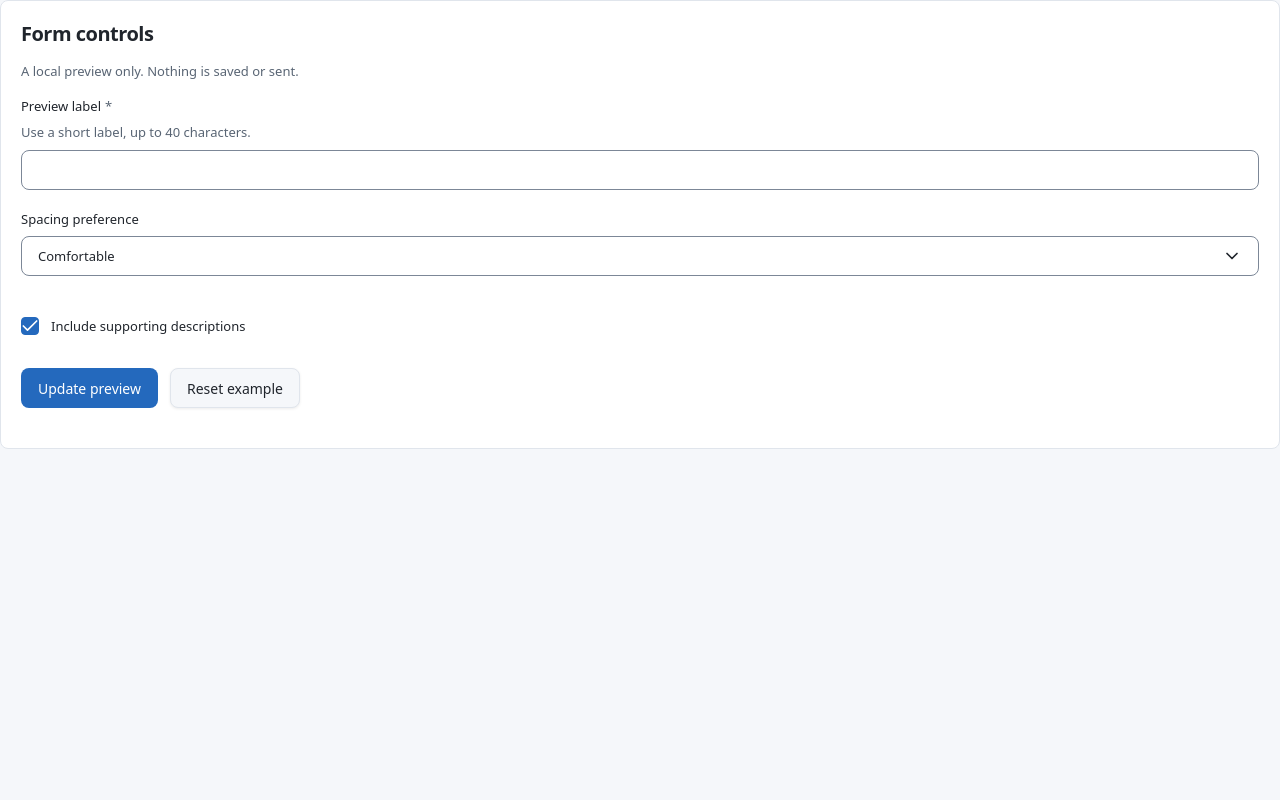
Test: associates labels, hints and validation errors and focuses the error summary
Step 1. Click the button "Update preview" → (90, 388), box [21, 368, 158, 408]
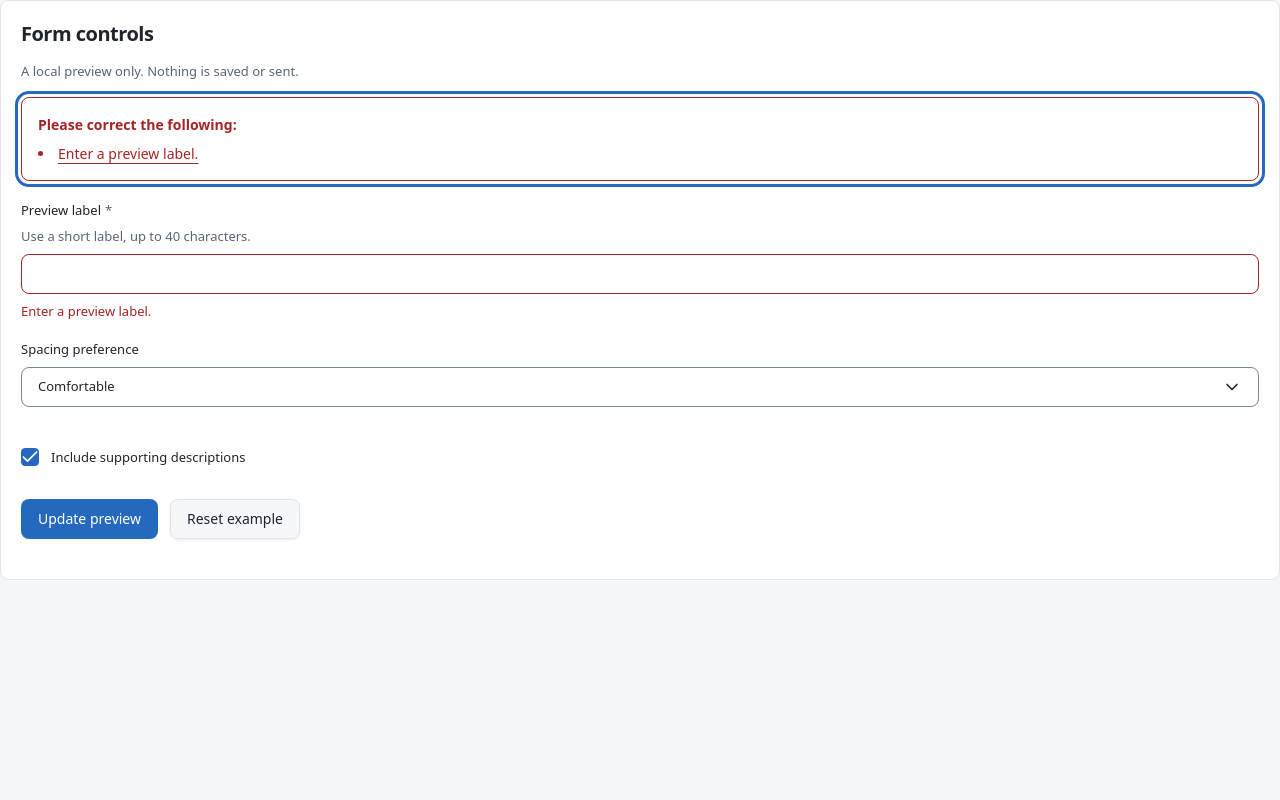
Expected: the field labelled "Preview label" is marked as invalid, [21, 254, 1259, 294]
Step 2. Click the button "Enter a preview label." → (128, 153), box [58, 143, 198, 164]
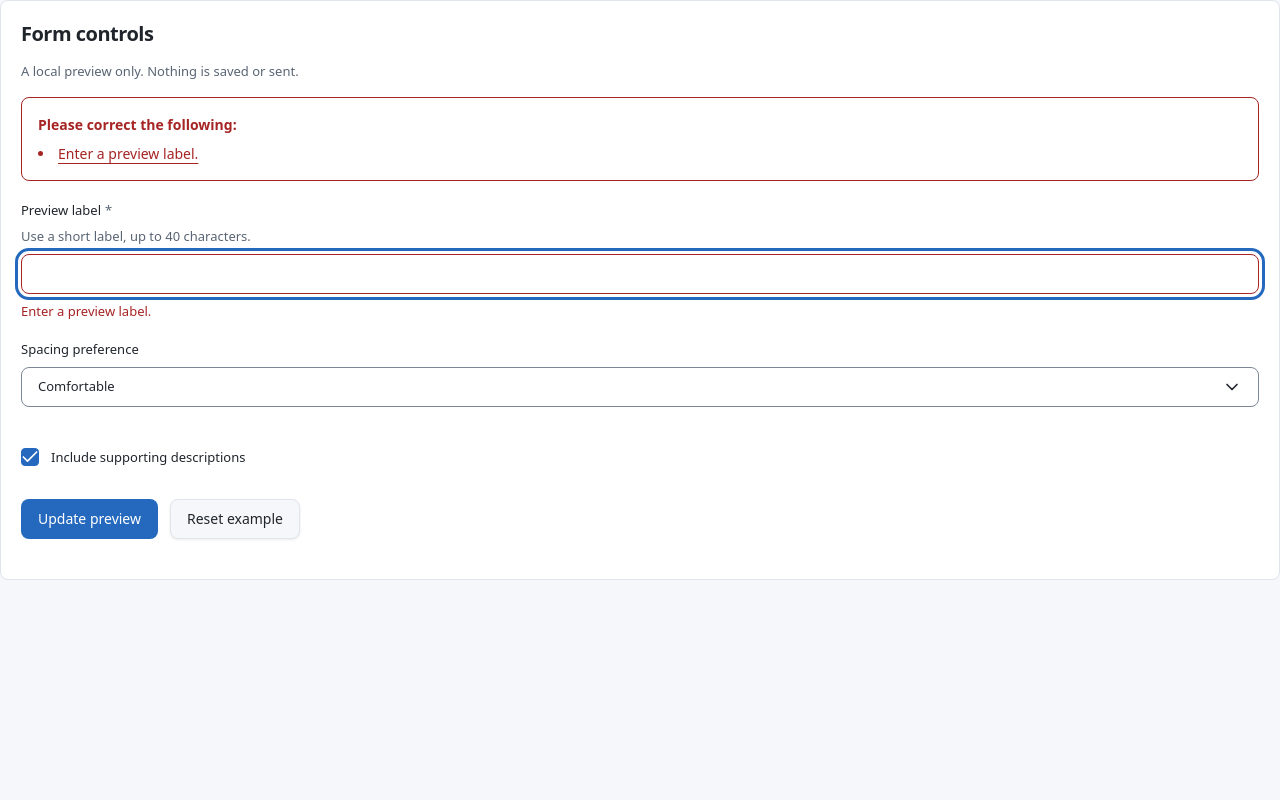
Step 3. Type "Example" into the field labelled "Preview label" → (640, 274), box [21, 254, 1259, 294]
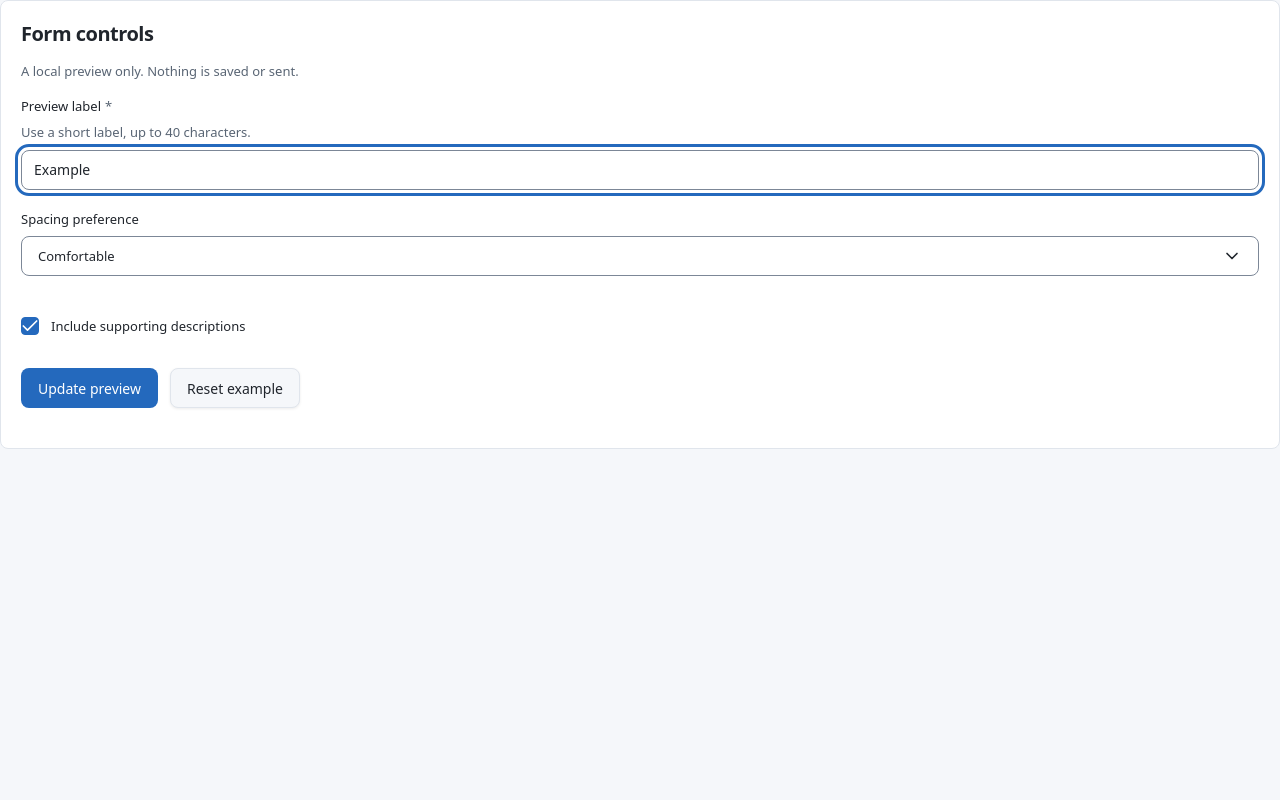
Step 4. Click the dropdown named "Spacing preference" → (76, 256), box [21, 236, 1259, 276]
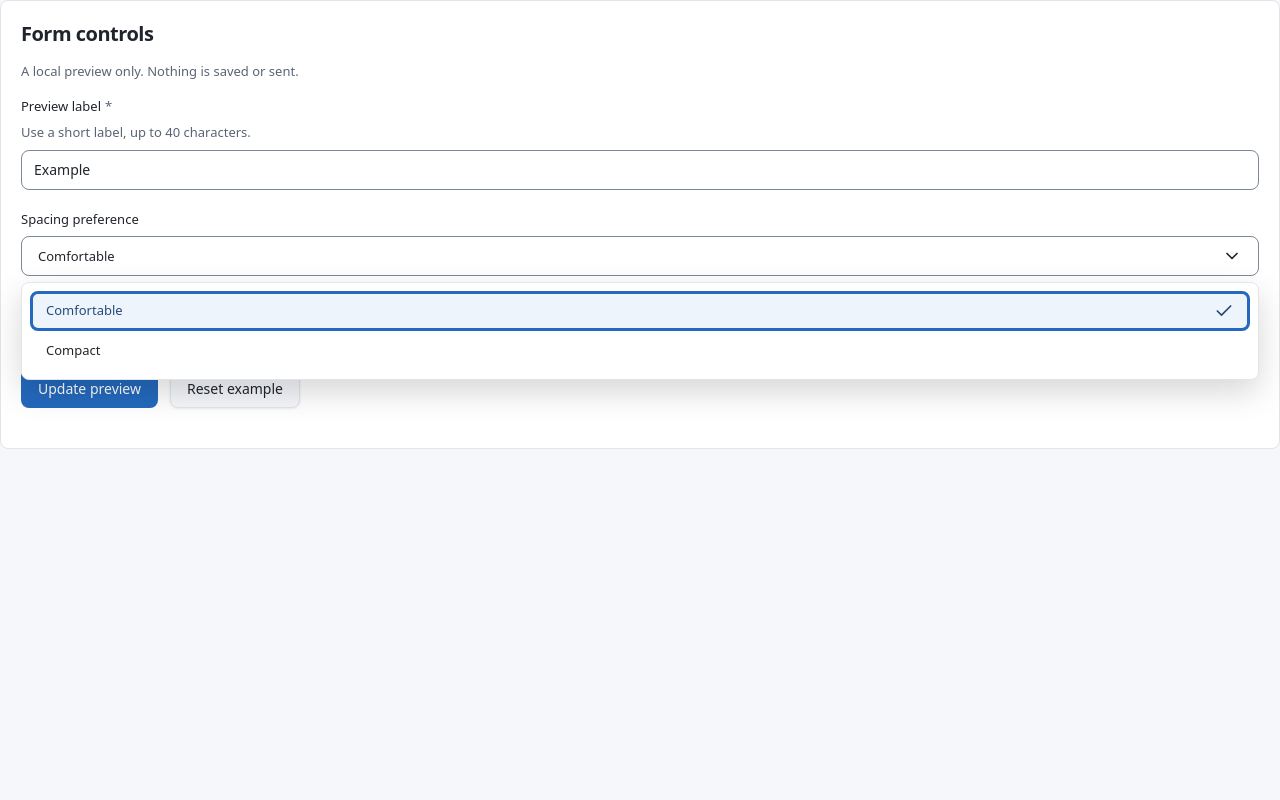
Step 5. Click the option "Compact" → (73, 350), box [46, 341, 100, 359]
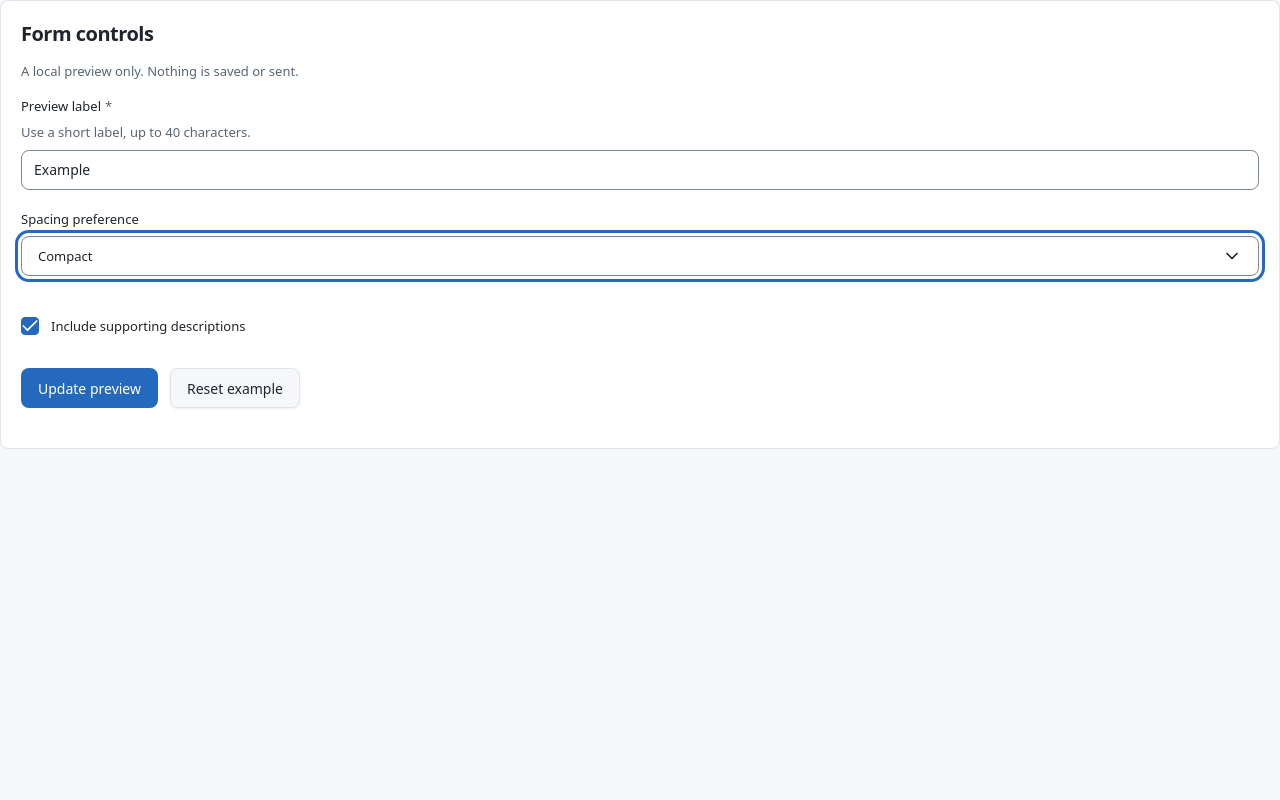
Step 6. Click the button "Update preview" → (90, 388), box [21, 368, 158, 408]
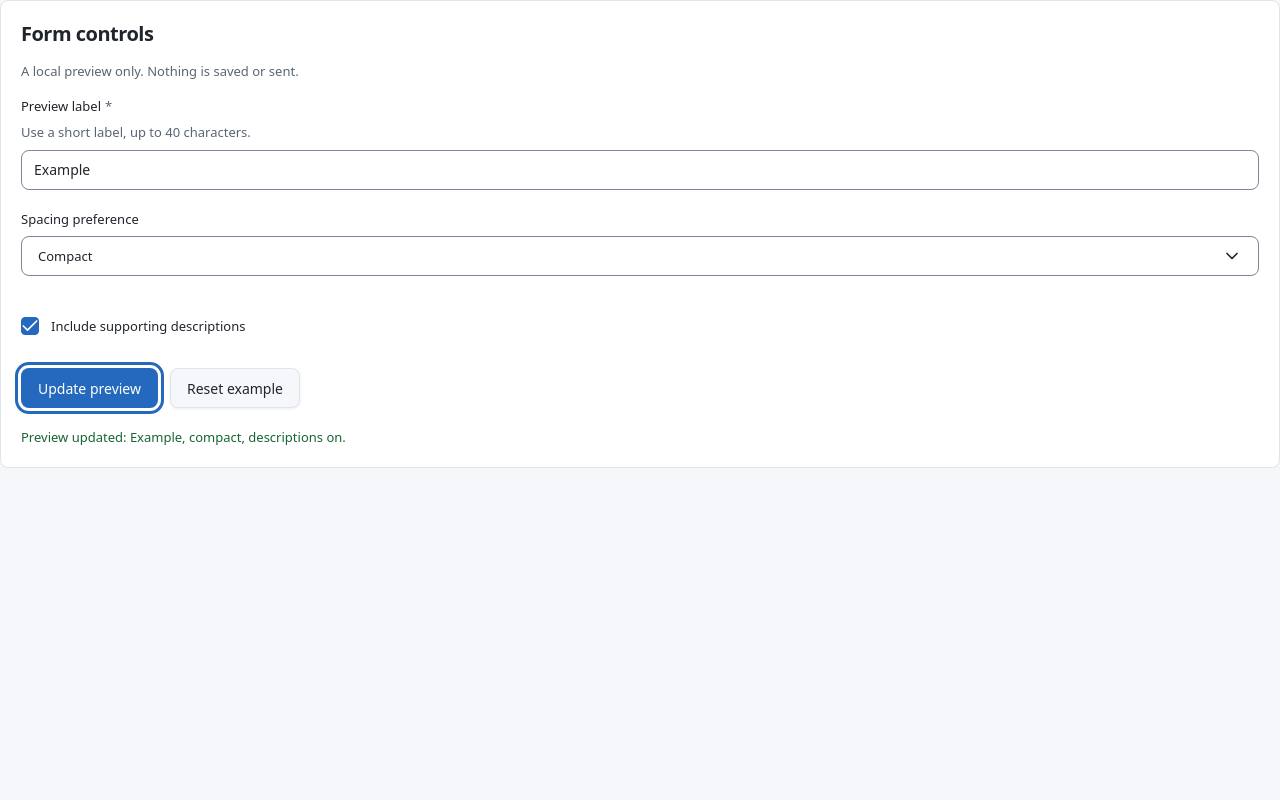
Expected: the message shows "Example, compact", [21, 428, 346, 446]
